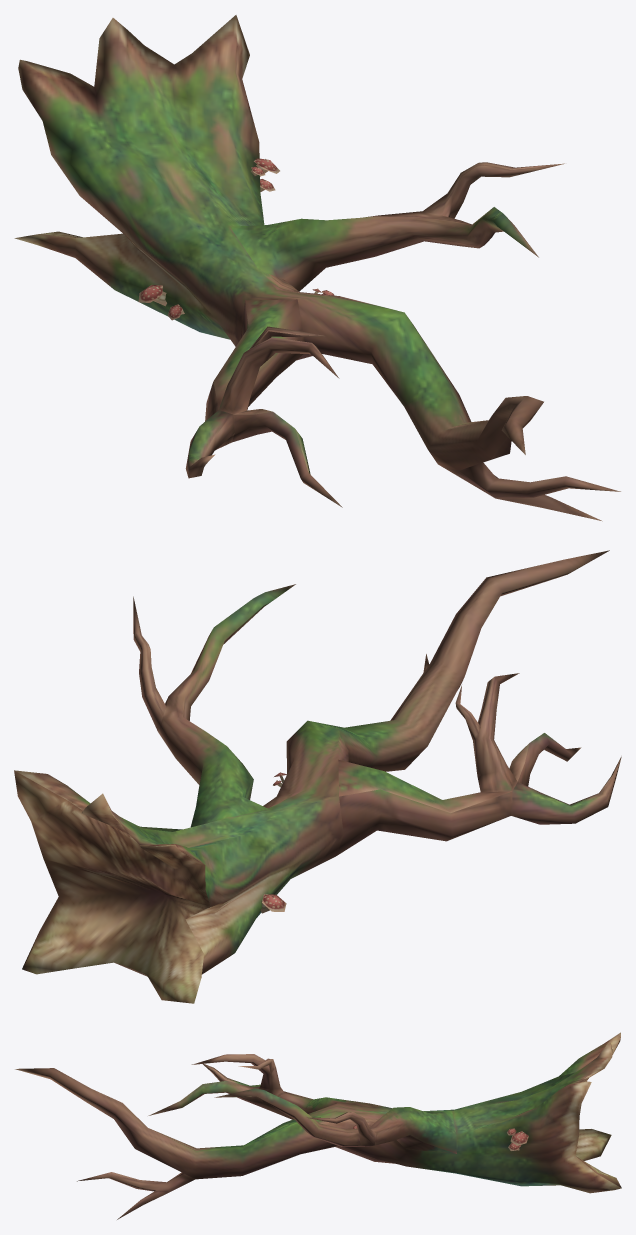
Rendered from Yland1_Zb_25_Yland1.FBX.
3 renders of one model, top to bottom at view 1: azimuth 30°, elevation 25°; view 2: azimuth 150°, elevation 25°; view 3: azimuth 270°, elevation 25°, orthographic. The views are drawn at different scales.
Parts seen in each view (by area): view 1: Yland1_Zb_25_Yland1; view 2: Yland1_Zb_25_Yland1; view 3: Yland1_Zb_25_Yland1.
Boxes of the visible parts, bbox=[...] form: Yland1_Zb_25_Yland1: bbox=[14, 15, 620, 521]; Yland1_Zb_25_Yland1: bbox=[14, 550, 621, 1003]; Yland1_Zb_25_Yland1: bbox=[15, 1032, 621, 1219].
Size of the model in its own units: 3.6 by 1.87 by 6.86.
